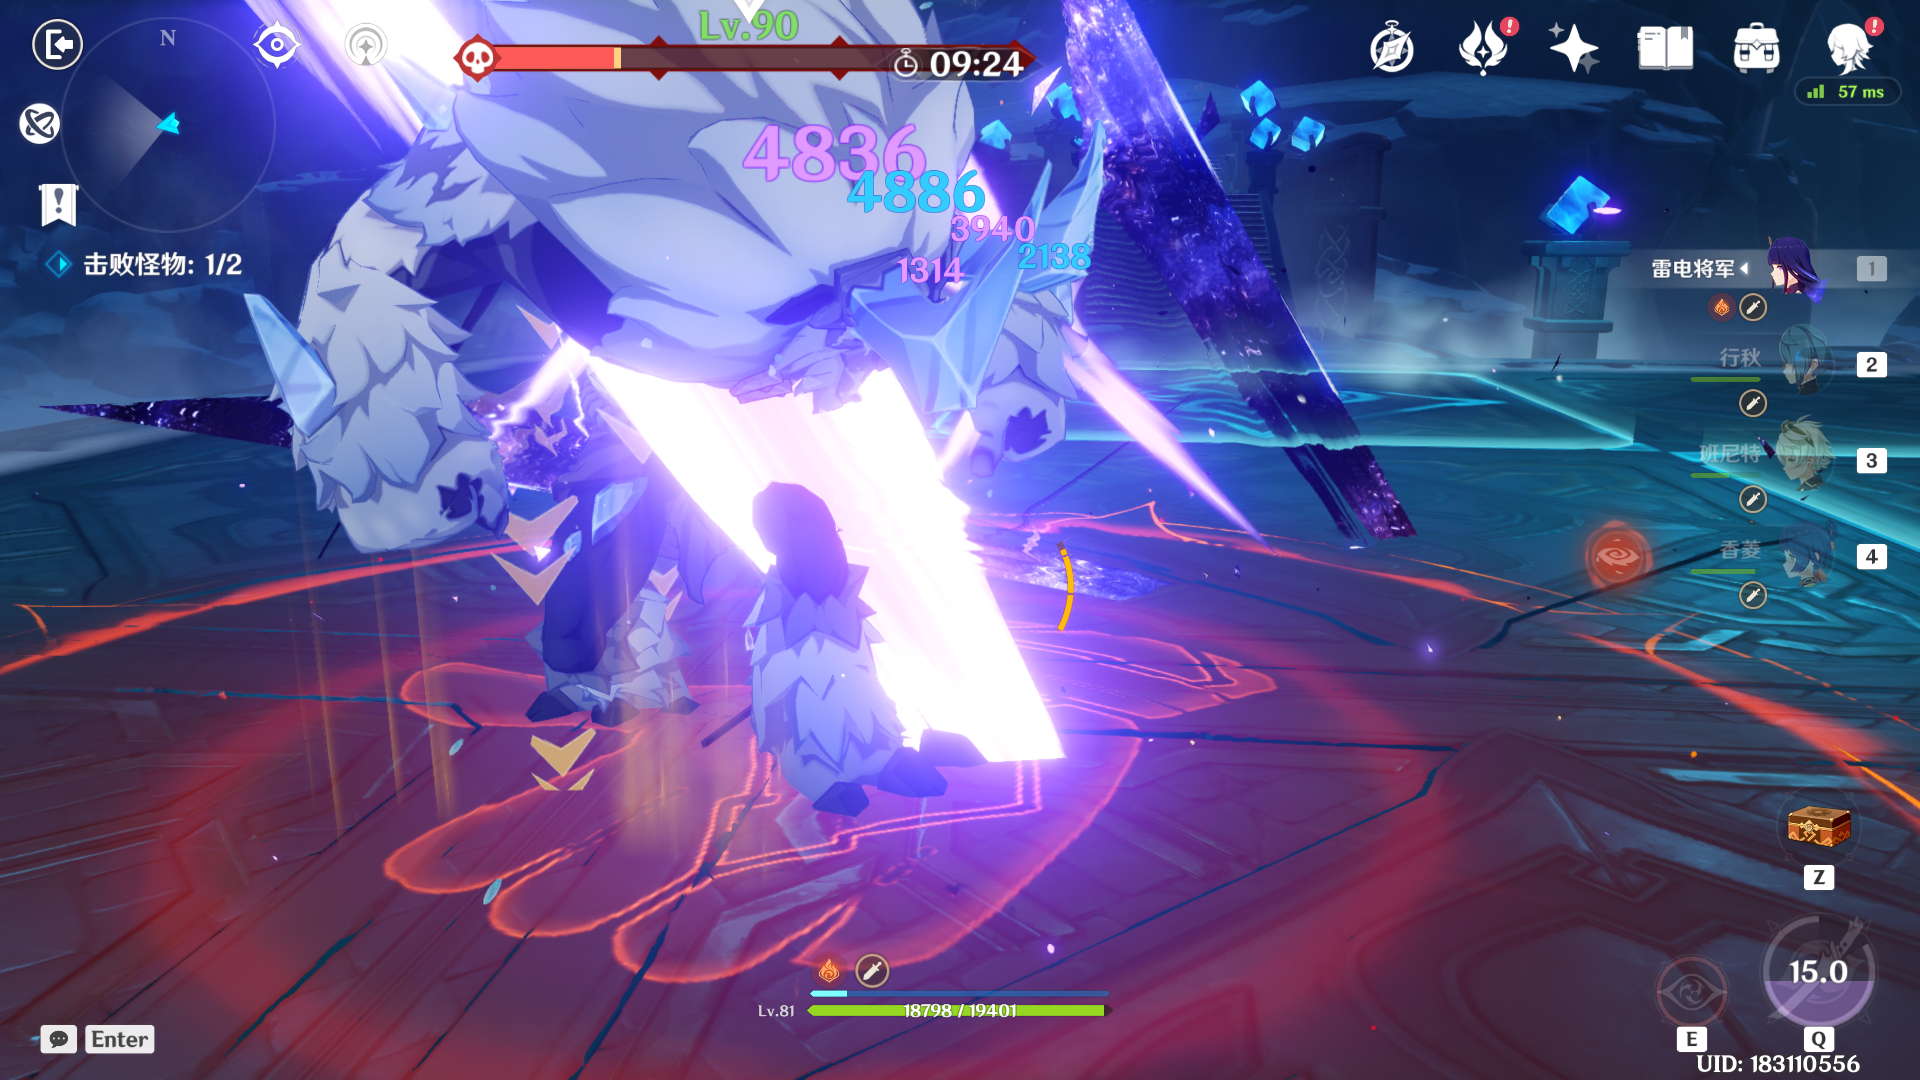bosshili: (225, 1, 1184, 935)
